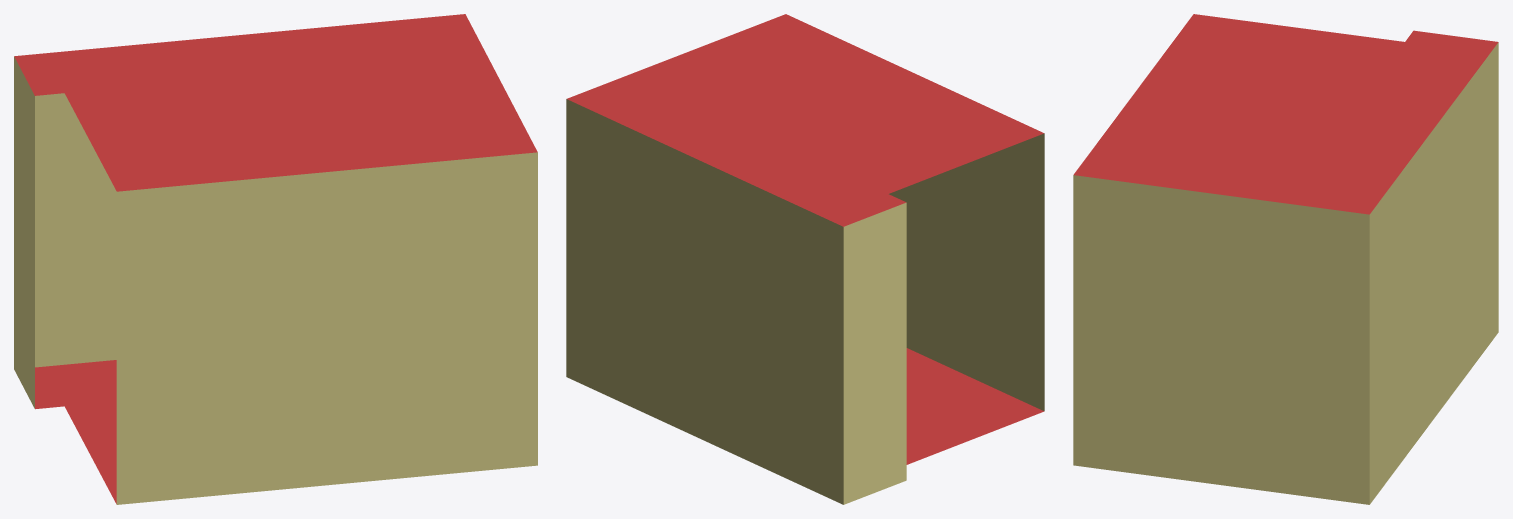
3 views of the same model, side by side, from view 1: azimuth 30°, elevation 25°; view 2: azimuth 150°, elevation 25°; view 3: azimuth 270°, elevation 25° (orthographic). The views are drawn at different scales.
Bounding box in the file's own units: 9.52 × 8.53 × 6.43.
